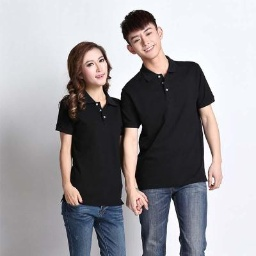face: (66, 41, 112, 99), (120, 9, 166, 63)
